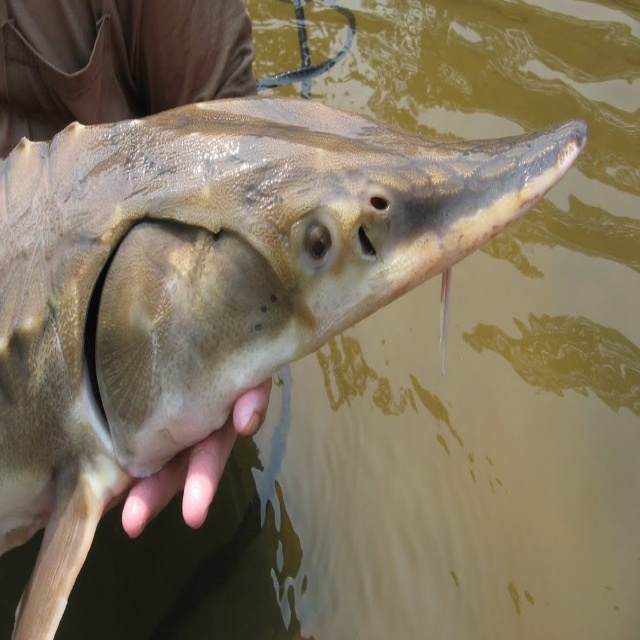Fish: (0, 96, 587, 640)
